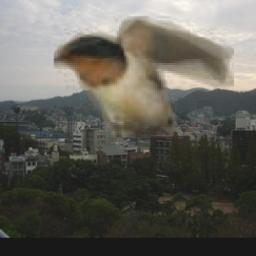Swallow: (53, 16, 233, 138)
